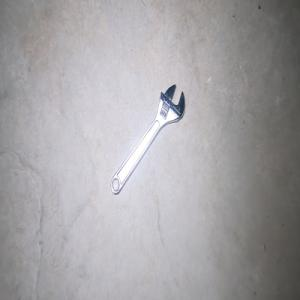Wrench: (110, 83, 185, 195)
